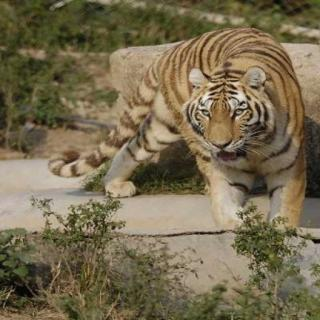Tiger: (53, 15, 309, 238)
